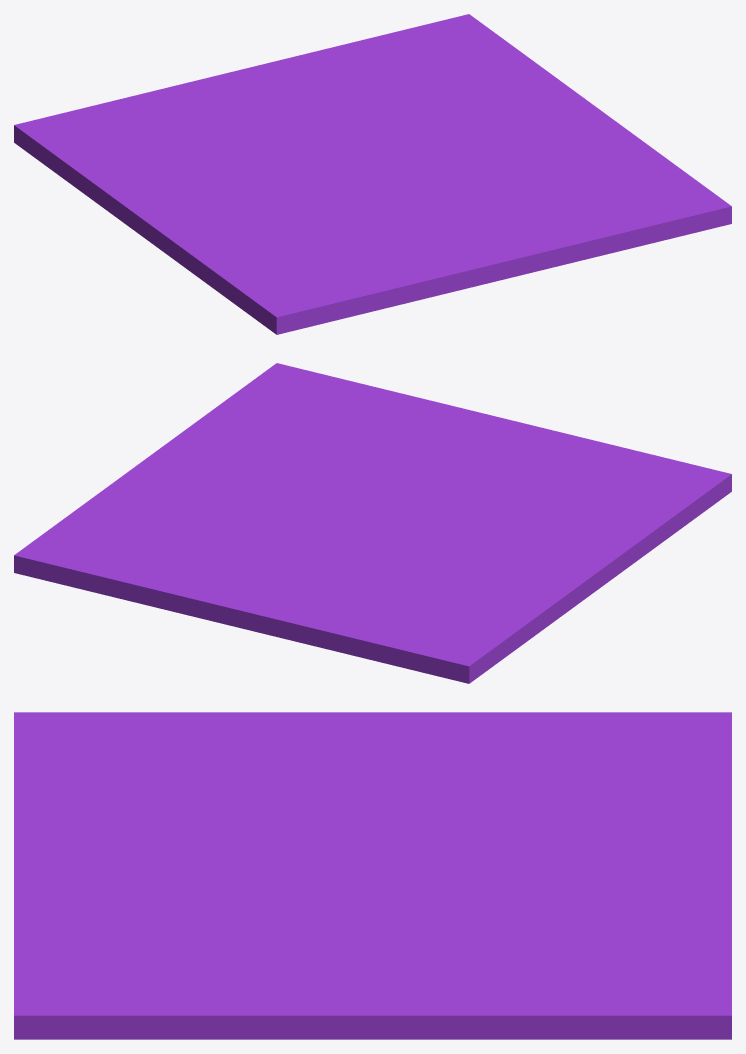
Rendered from Platform_48_chunks.fbx.
3 renders of one model, top to bottom at view 1: azimuth 30°, elevation 25°; view 2: azimuth 150°, elevation 25°; view 3: azimuth 270°, elevation 25°, orthographic. The views are drawn at different scales.
Visible parts, largest first — view 1: Platform_48_14, Platform_48_8, Platform_48_10, Platform_48_3, Platform_48_0, Platform_48_15, Platform_48_13, Platform_48_6, Platform_48_7, Platform_48_12, Platform_48_9, Platform_48_2 (+4 smaller); view 2: Platform_48_8, Platform_48_3, Platform_48_0, Platform_48_14, Platform_48_10, Platform_48_15, Platform_48_7, Platform_48_6, Platform_48_9, Platform_48_13, Platform_48_12, Platform_48_2 (+4 smaller); view 3: Platform_48_3, Platform_48_8, Platform_48_14, Platform_48_0, Platform_48_10, Platform_48_6, Platform_48_15, Platform_48_7, Platform_48_13, Platform_48_12, Platform_48_9, Platform_48_5 (+4 smaller).
Boxes of the visible parts, x1,y1,x2,y2 form: Platform_48_14: (227,230,505,334); Platform_48_8: (14,103,223,257); Platform_48_10: (171,155,363,303); Platform_48_3: (250,14,539,97); Platform_48_0: (150,67,393,166); Platform_48_15: (387,166,628,247); Platform_48_13: (460,197,716,281); Platform_48_6: (548,129,731,233); Platform_48_7: (429,105,625,166); Platform_48_12: (262,164,412,251); Platform_48_9: (103,92,328,159); Platform_48_2: (377,66,549,128); Platform_48_8: (380,551,626,683); Platform_48_3: (14,503,234,626); Platform_48_0: (232,508,379,646); Platform_48_14: (497,418,731,521); Platform_48_10: (372,510,689,568); Platform_48_15: (310,405,498,499); Platform_48_7: (138,440,299,505); Platform_48_6: (171,363,323,449); Platform_48_9: (318,536,426,663); Platform_48_13: (291,366,502,441); Platform_48_12: (355,477,603,517); Platform_48_2: (85,496,287,546); Platform_48_3: (531,869,731,1039); Platform_48_8: (303,712,731,787); Platform_48_14: (14,712,207,864); Platform_48_0: (364,803,731,912); Platform_48_10: (151,712,457,858); Platform_48_6: (14,942,306,1039); Platform_48_15: (85,827,342,970); Platform_48_7: (250,907,452,1021); Platform_48_13: (14,851,109,1005); Platform_48_12: (183,750,375,883); Platform_48_9: (433,771,731,849); Platform_48_5: (296,960,552,1039).
Bounding box in the file's own units: 810 × 29.87 × 810.
